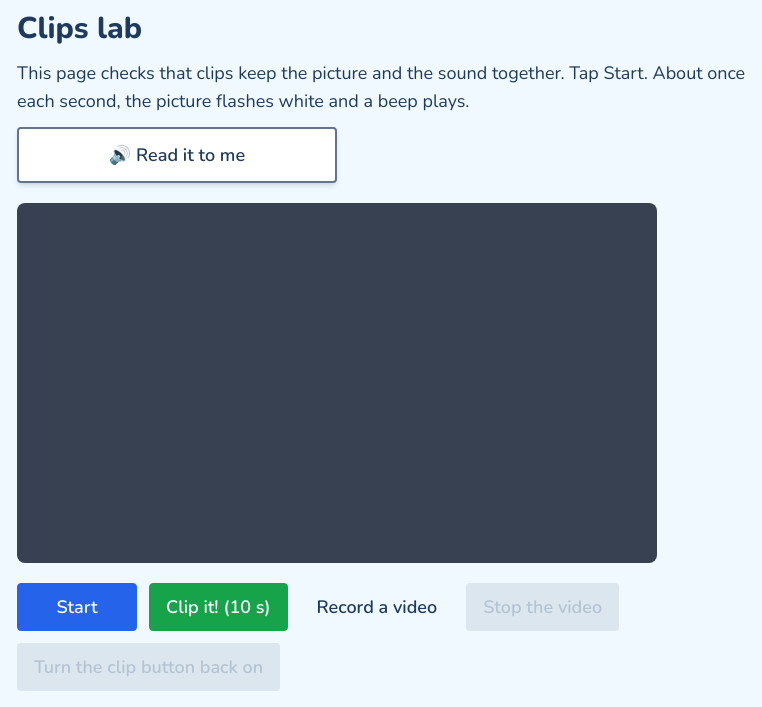
Test: ClipsLab › records a video with Record a video and Stop the video
Check: the button with test id "lab-record-stop" is disabled, box [466, 583, 619, 631]
Click the button with test id "lab-record-start".
click(377, 607)  # box [300, 583, 454, 631]
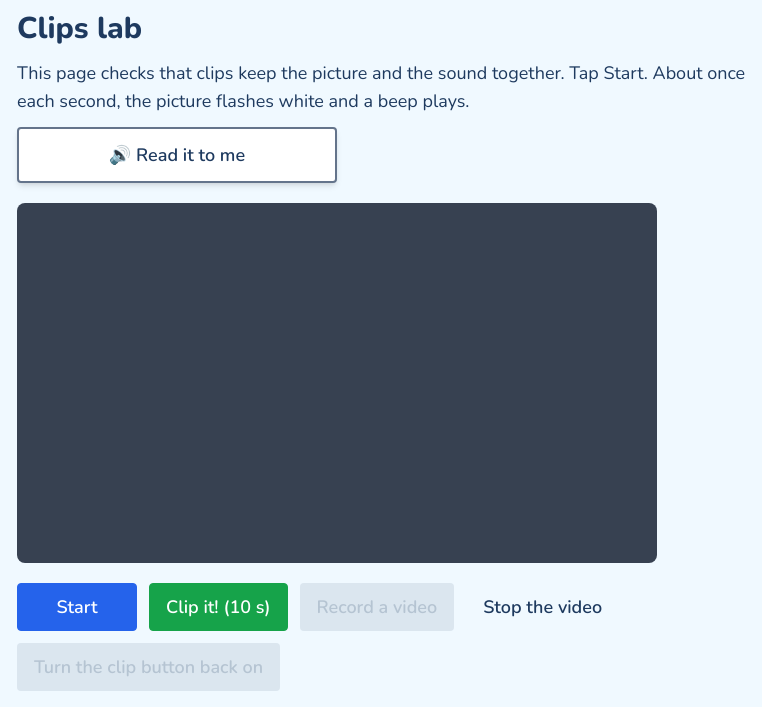
Check: the button with test id "lab-record-start" is disabled, box [300, 583, 454, 631]
Check: the button with test id "lab-record-stop" is enabled
Click the button with test id "lab-record-stop".
click(543, 607)  # box [466, 583, 619, 631]
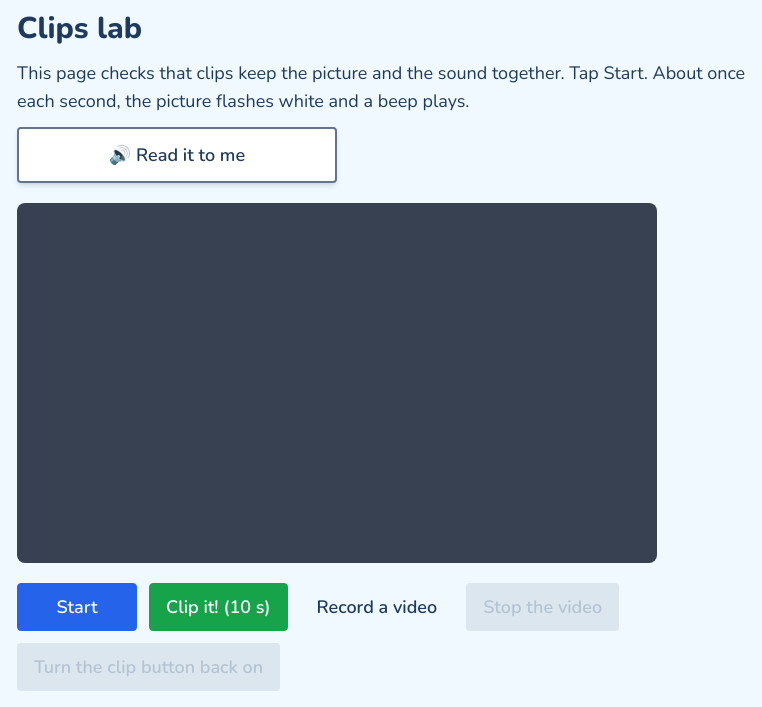
Check: the button with test id "lab-record-start" is enabled, box [300, 583, 454, 631]
